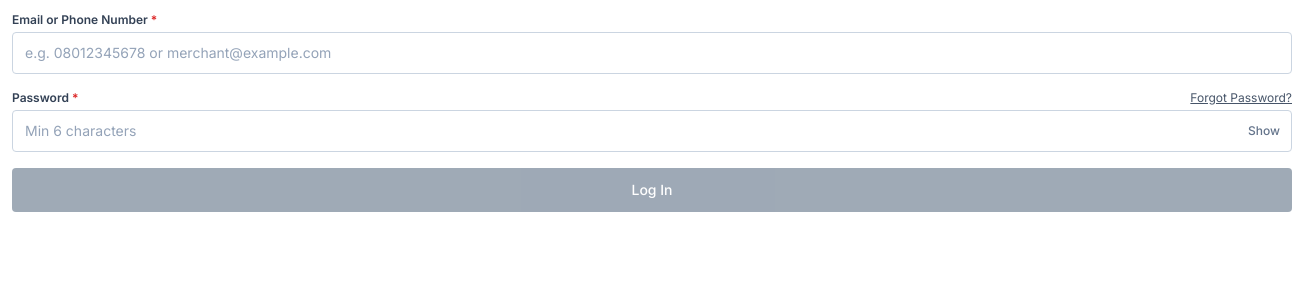
Vendor Login Flow Components › Login Submission & Storage › handles successful API authentication and stores credentials
This screenshot has width=1304, height=287.
In the field labelled "Email or Phone Number *": x=652, y=53 top-left (12, 32), bottom-right (1292, 74), type "ade@stores.ng"
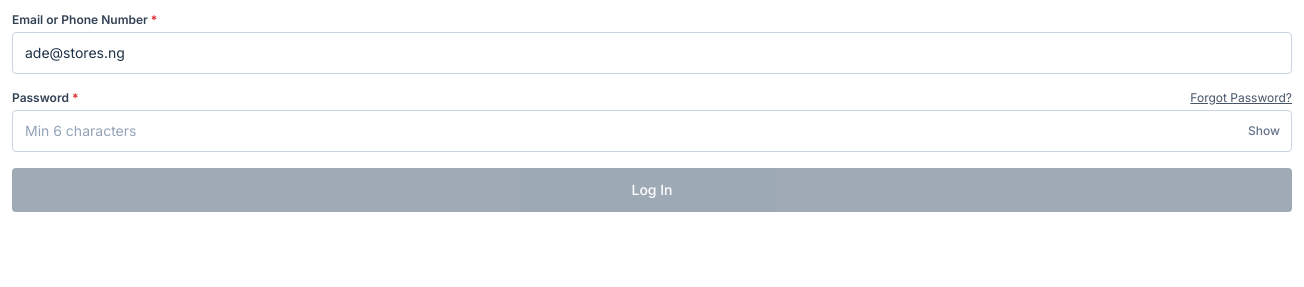
In the password field labelled "Password *": x=652, y=131 top-left (12, 110), bottom-right (1292, 152), type "mypassword123"
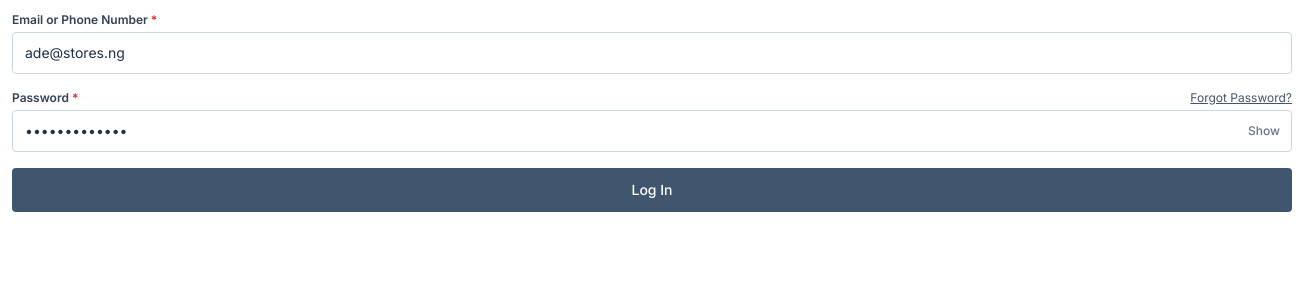
Click the button with aria-label "Login": x=652, y=190 top-left (12, 168), bottom-right (1292, 212)
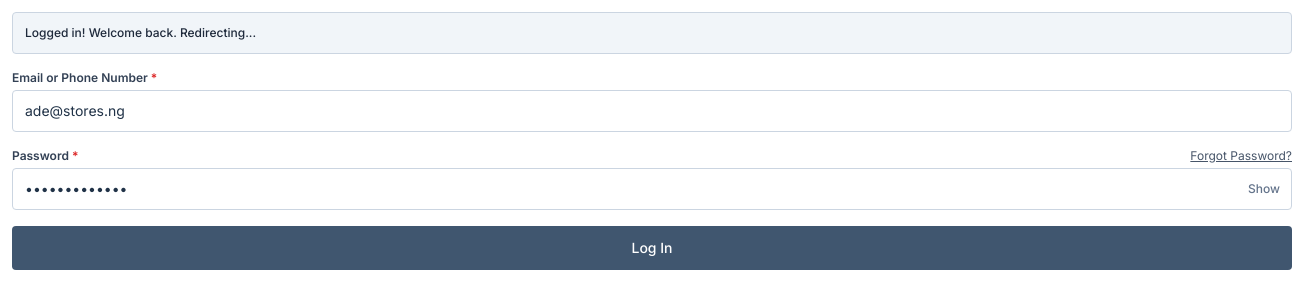
Result: the text "Logged in! Welcome back. Redirecting..." is shown at top-left (12, 12), bottom-right (1292, 54)
